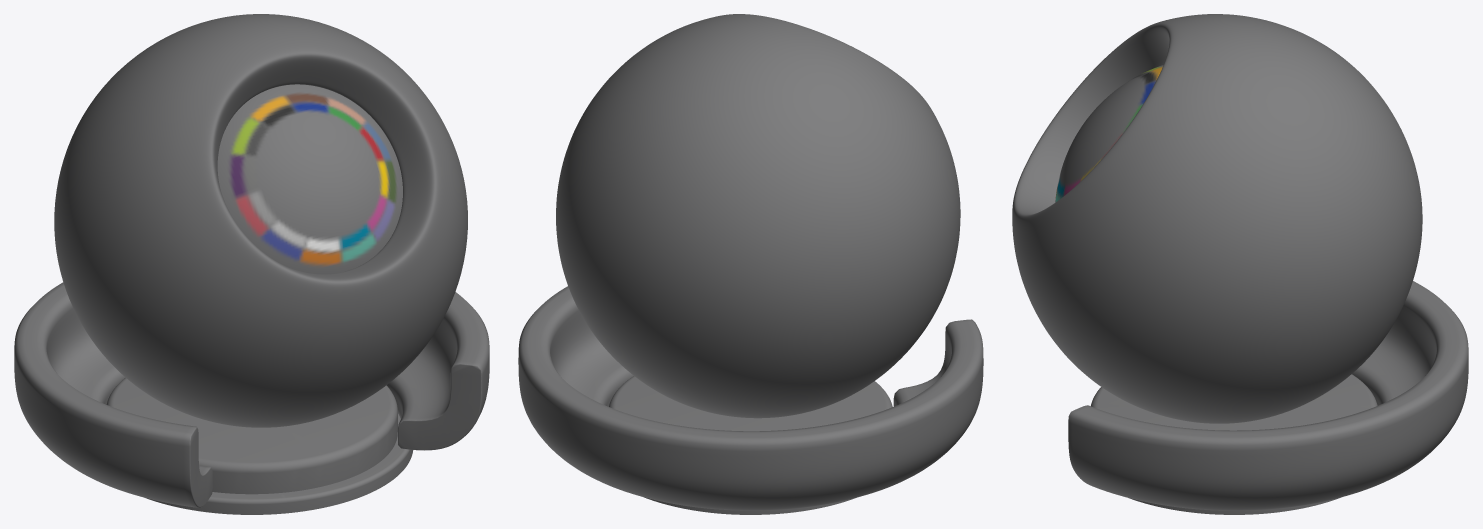
Rendered from standard_surface_greysphere_calibration.mtlx.glb.
The picture shows the model from 3 angles, left to right: view 1: azimuth 30°, elevation 25°; view 2: azimuth 150°, elevation 25°; view 3: azimuth 270°, elevation 25°; orthographic projection. The views are drawn at different scales.
Parts seen in each view (by area): view 1: Preview_Mesh, Calibration_Mesh; view 2: Preview_Mesh, Calibration_Mesh; view 3: Preview_Mesh, Calibration_Mesh.
Boxes of the visible parts, <box> form: Preview_Mesh: <box>14,14,489,507</box>; Calibration_Mesh: <box>106,84,413,514</box>; Preview_Mesh: <box>518,14,983,510</box>; Calibration_Mesh: <box>609,376,892,514</box>; Preview_Mesh: <box>1012,14,1468,510</box>; Calibration_Mesh: <box>1055,65,1377,514</box>.
Size of the model in its own units: 2.14 by 2.09 by 2.08.
Materials: 1 (1 with a texture image).
